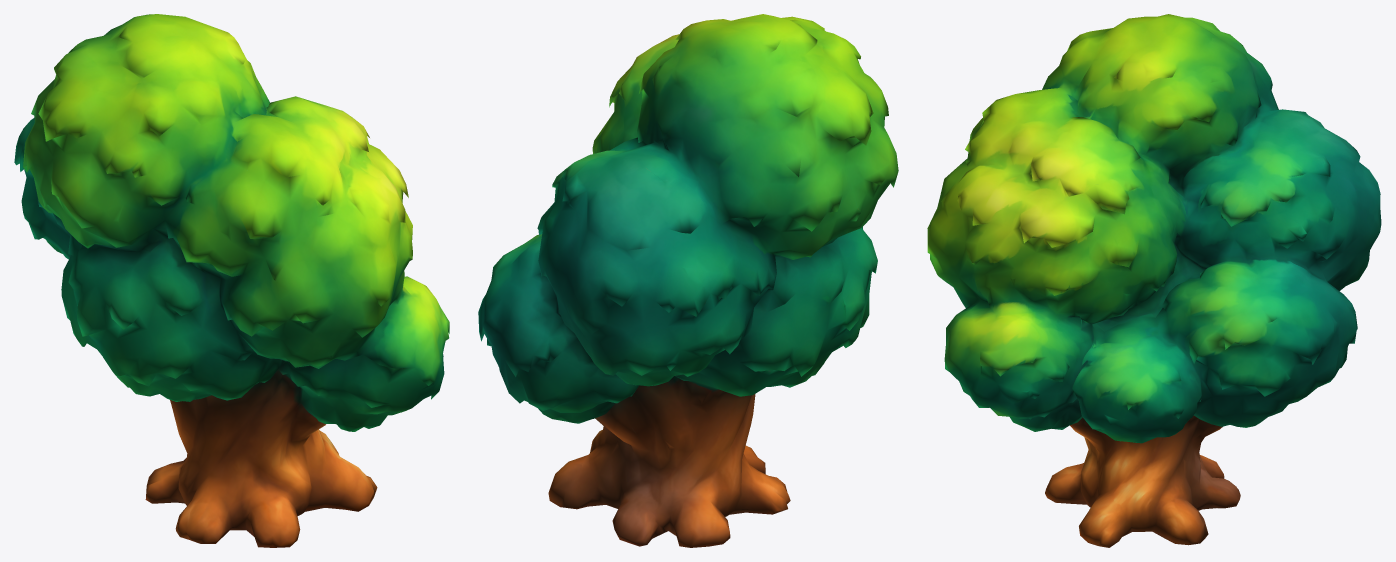
3 views of the same model, side by side, from view 1: azimuth 30°, elevation 25°; view 2: azimuth 150°, elevation 25°; view 3: azimuth 270°, elevation 25° (orthographic). The views are drawn at different scales.
Visible parts, largest first — view 1: tripo_node_4a53af61-9578-4bec-ac14-3283622f6590; view 2: tripo_node_4a53af61-9578-4bec-ac14-3283622f6590; view 3: tripo_node_4a53af61-9578-4bec-ac14-3283622f6590.
Part boxes in pixels (box(x1,y1,x2,y2)): tripo_node_4a53af61-9578-4bec-ac14-3283622f6590: box(14, 14, 449, 547); tripo_node_4a53af61-9578-4bec-ac14-3283622f6590: box(478, 14, 898, 547); tripo_node_4a53af61-9578-4bec-ac14-3283622f6590: box(927, 14, 1381, 547).
Size of the model in its own units: 0.99 by 1.4 by 1.28.
1 material, 1 textured.
